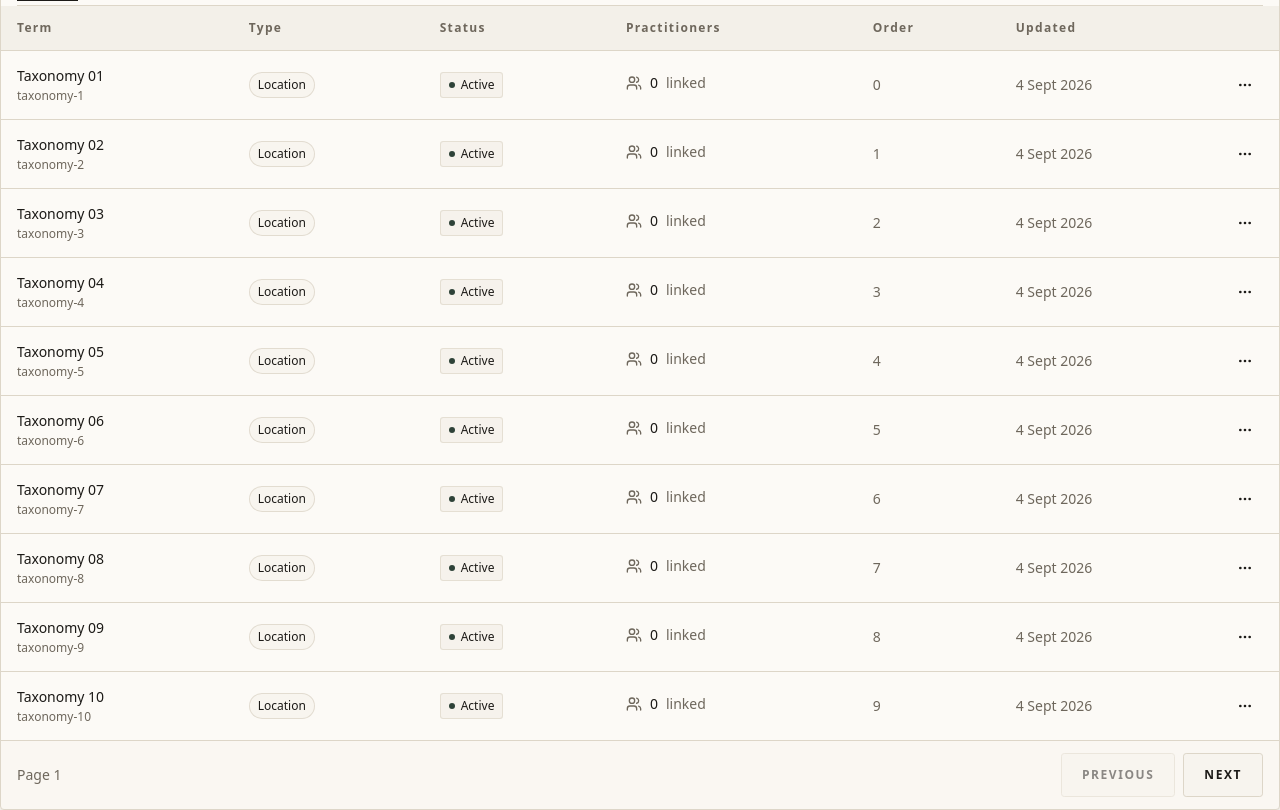
Scenario: practitioner and taxonomy CMS controls › paginates taxonomy records
The image size is (1280, 810).
(page scrolled)
Check: the text "Page 1" is shown, box [17,764,62,784]
Click the button "Next".
click(1223, 774)  # box [1183,752,1263,796]
(page scrolled)
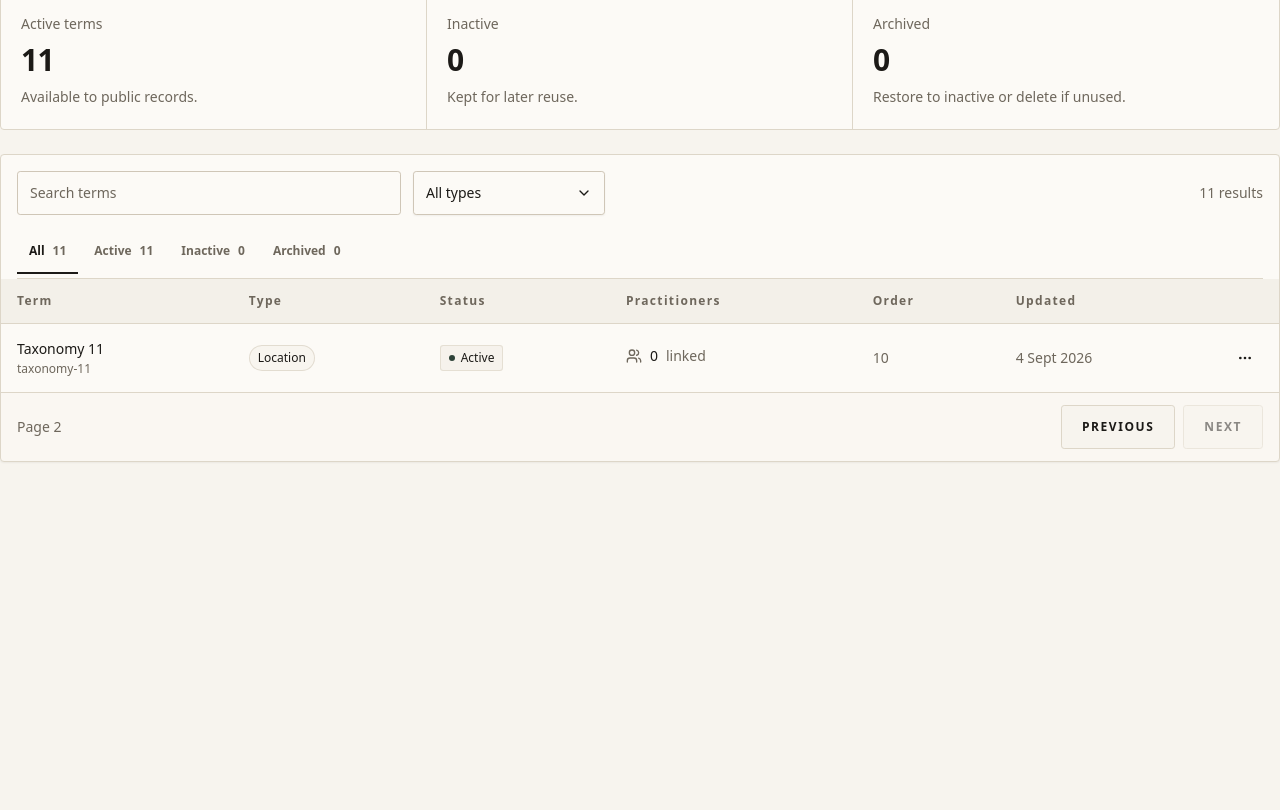
Check: the text "Page 2" is shown, box [17,416,62,436]
Check: the link "Taxonomy 11" is shown, box [17,338,104,358]
Check: the link "Taxonomy 01" is gone
